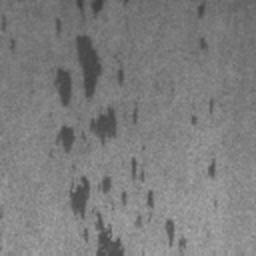Red iron sheet: (55, 33, 138, 155), (68, 155, 155, 256), (164, 218, 191, 250), (188, 97, 215, 124), (76, 0, 105, 18), (195, 3, 206, 20), (207, 163, 218, 178), (198, 36, 209, 50), (8, 37, 18, 51), (55, 19, 61, 33)
